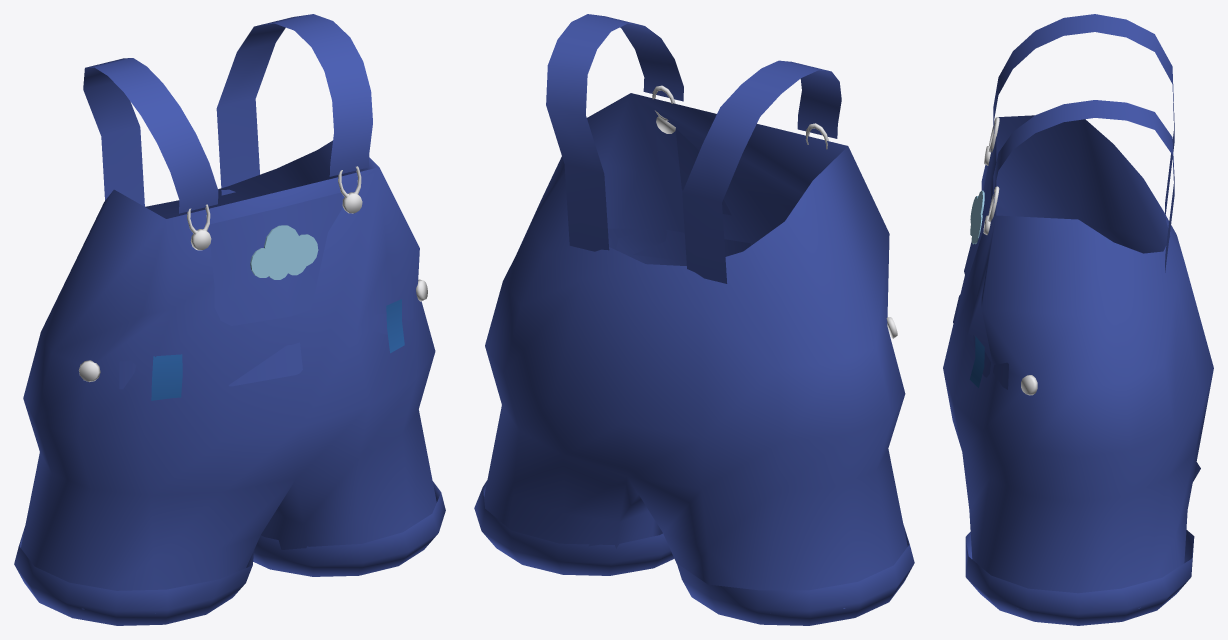
File: overol.glb
3 renders of one model, left to right at view 1: azimuth 30°, elevation 25°; view 2: azimuth 150°, elevation 25°; view 3: azimuth 270°, elevation 25°, orthographic. The views are drawn at different scales.
Parts seen in each view (by area): view 1: Overol_Cuerpo, Tirante_D, Tirante_I, Bolsillo_Peto, Dobladillo_I, Dobladillo_D, Nube, Pretina, Presilla_I, Presilla_D; view 2: Overol_Cuerpo, Tirante_D, Tirante_I, Dobladillo_I, Dobladillo_D, Pretina, Bolsillo_Peto; view 3: Overol_Cuerpo, Dobladillo_D, Tirante_I, Tirante_D, Bolsillo_Peto, Pretina, Nube, Presilla_D.
Part boxes in pixels (bbox=[...]): Overol_Cuerpo: bbox=[21, 140, 436, 613]; Tirante_D: bbox=[216, 14, 372, 195]; Tirante_I: bbox=[83, 58, 218, 213]; Bolsillo_Peto: bbox=[209, 192, 342, 325]; Dobladillo_I: bbox=[14, 527, 254, 625]; Dobladillo_D: bbox=[253, 481, 445, 576]; Nube: bbox=[250, 225, 318, 279]; Pretina: bbox=[119, 290, 413, 389]; Presilla_I: bbox=[151, 354, 182, 400]; Presilla_D: bbox=[386, 299, 404, 353]; Overol_Cuerpo: bbox=[484, 93, 907, 608]; Tirante_D: bbox=[546, 14, 683, 251]; Tirante_I: bbox=[682, 60, 841, 283]; Dobladillo_I: bbox=[678, 524, 914, 625]; Dobladillo_D: bbox=[474, 480, 674, 575]; Pretina: bbox=[608, 228, 750, 261]; Bolsillo_Peto: bbox=[675, 128, 731, 215]; Overol_Cuerpo: bbox=[943, 115, 1213, 608]; Dobladillo_D: bbox=[965, 530, 1194, 625]; Tirante_I: bbox=[993, 14, 1174, 219]; Tirante_D: bbox=[993, 100, 1174, 272]; Bolsillo_Peto: bbox=[964, 149, 991, 281]; Pretina: bbox=[953, 295, 1008, 389]; Nube: bbox=[970, 190, 984, 244]; Presilla_D: bbox=[969, 336, 984, 387].
Size of the model in its own units: 6.14 by 7.38 by 3.82.
